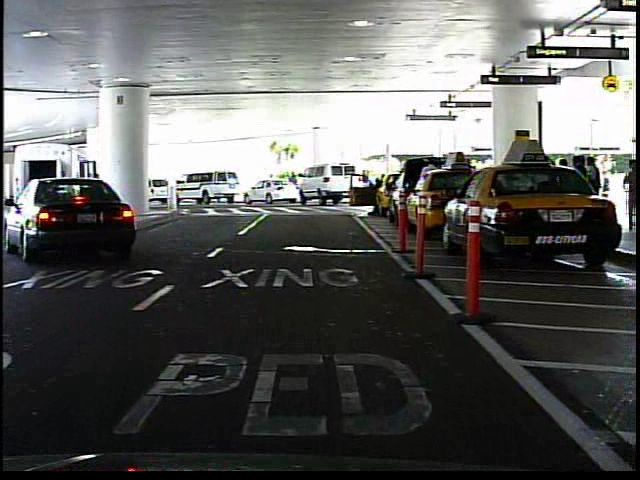person: (620, 160, 639, 230), (368, 169, 386, 220), (600, 165, 614, 199), (288, 169, 301, 201), (268, 173, 277, 181)
